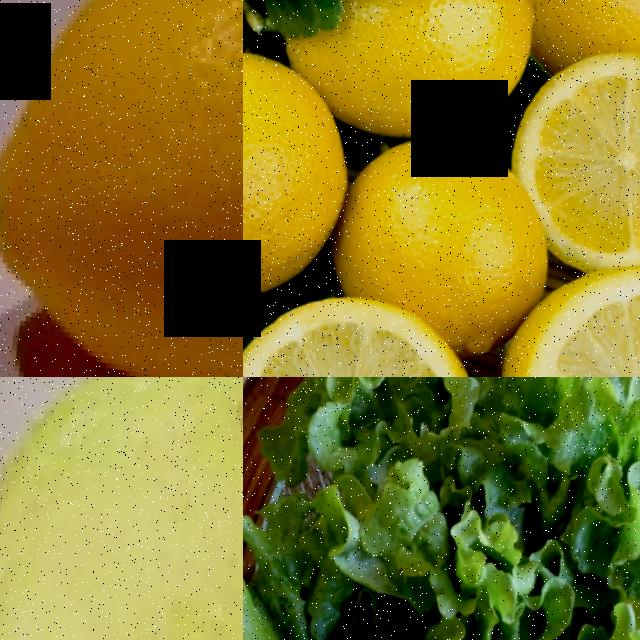lemon: (0, 0, 243, 377), (0, 377, 243, 640), (302, 113, 564, 350), (315, 0, 550, 166), (243, 22, 364, 337), (513, 45, 640, 301), (476, 259, 640, 377), (243, 302, 485, 377), (501, 0, 640, 98)
lettuce: (243, 377, 640, 640)
